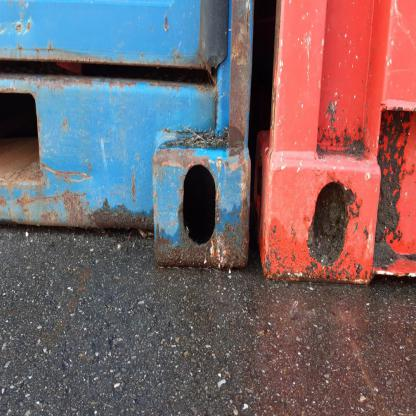CornerCasting: (257, 123, 374, 287), (149, 127, 250, 274)
